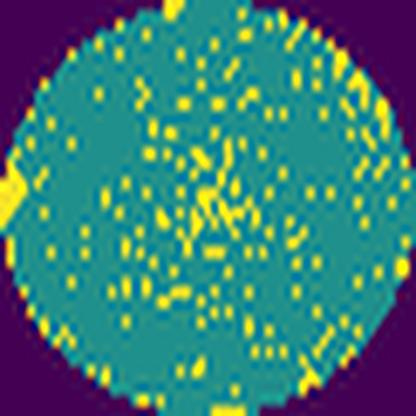Edge-Loc: (0, 148, 36, 241)
